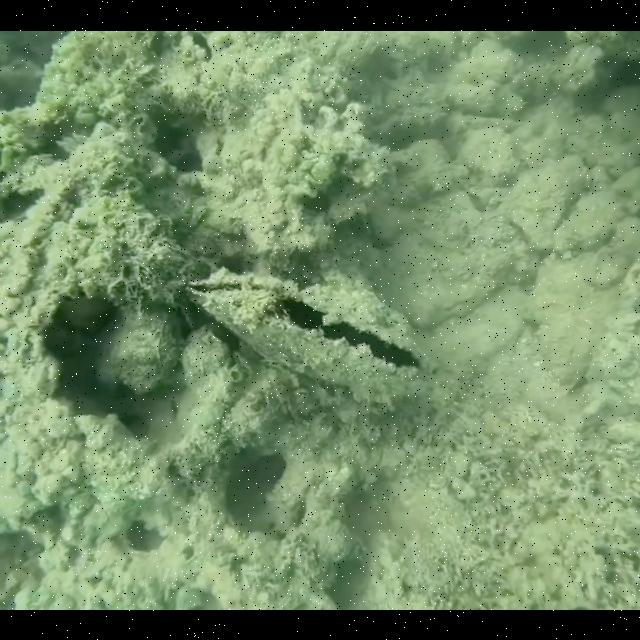Oyster-Open: (184, 264, 430, 404)
